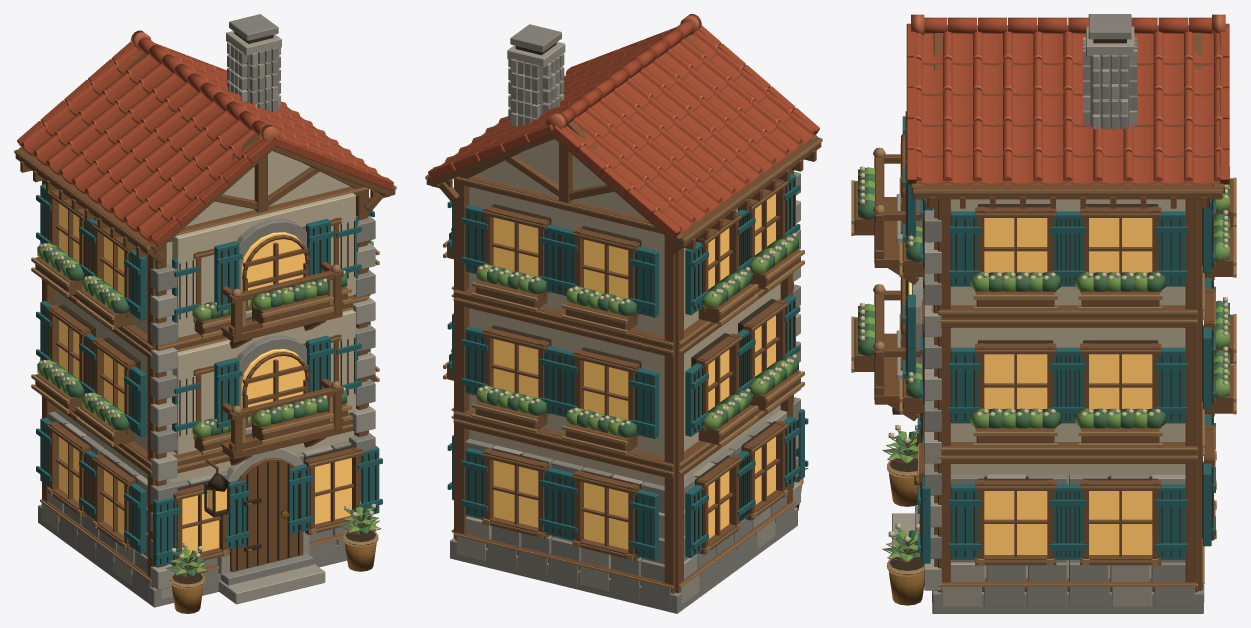
3 views of the same model, side by side, from view 1: azimuth 30°, elevation 25°; view 2: azimuth 150°, elevation 25°; view 3: azimuth 270°, elevation 25° (orthographic). The views are drawn at different scales.
Parts seen in each view (by area): view 1: alpine_tower_3_geometry; view 2: alpine_tower_3_geometry; view 3: alpine_tower_3_geometry.
Boxes of the visible parts, x1,y1,x2,y2 form: alpine_tower_3_geometry: (14,14,396,613); alpine_tower_3_geometry: (425,14,822,613); alpine_tower_3_geometry: (851,14,1236,613).
Size of the model in its own units: 0.9237 by 1.6 by 0.9856.
